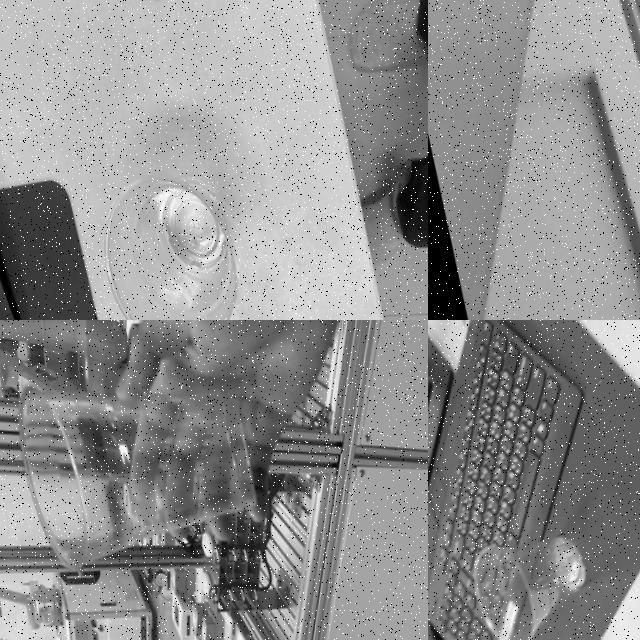glass: (0, 324, 277, 597), (78, 143, 272, 320), (458, 504, 608, 640)
